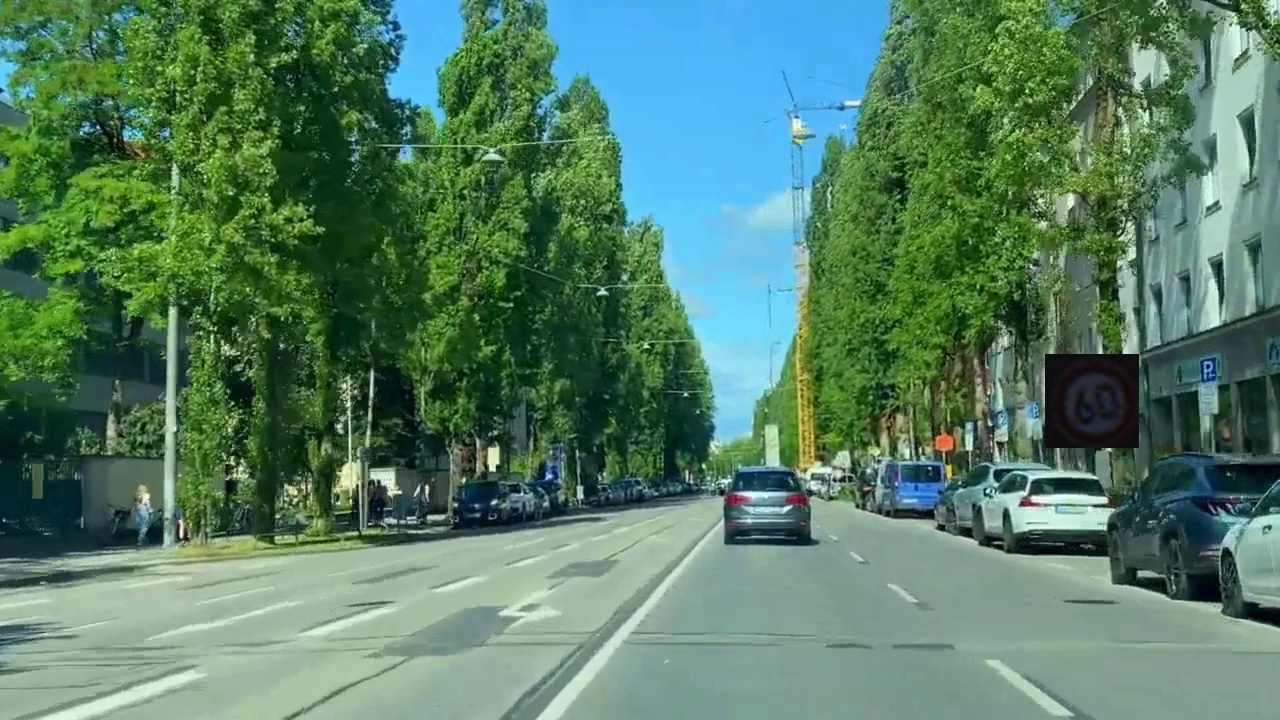Speed 60: (1045, 354, 1139, 448)
